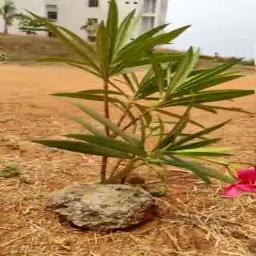OLEANDER: (20, 0, 255, 185)
